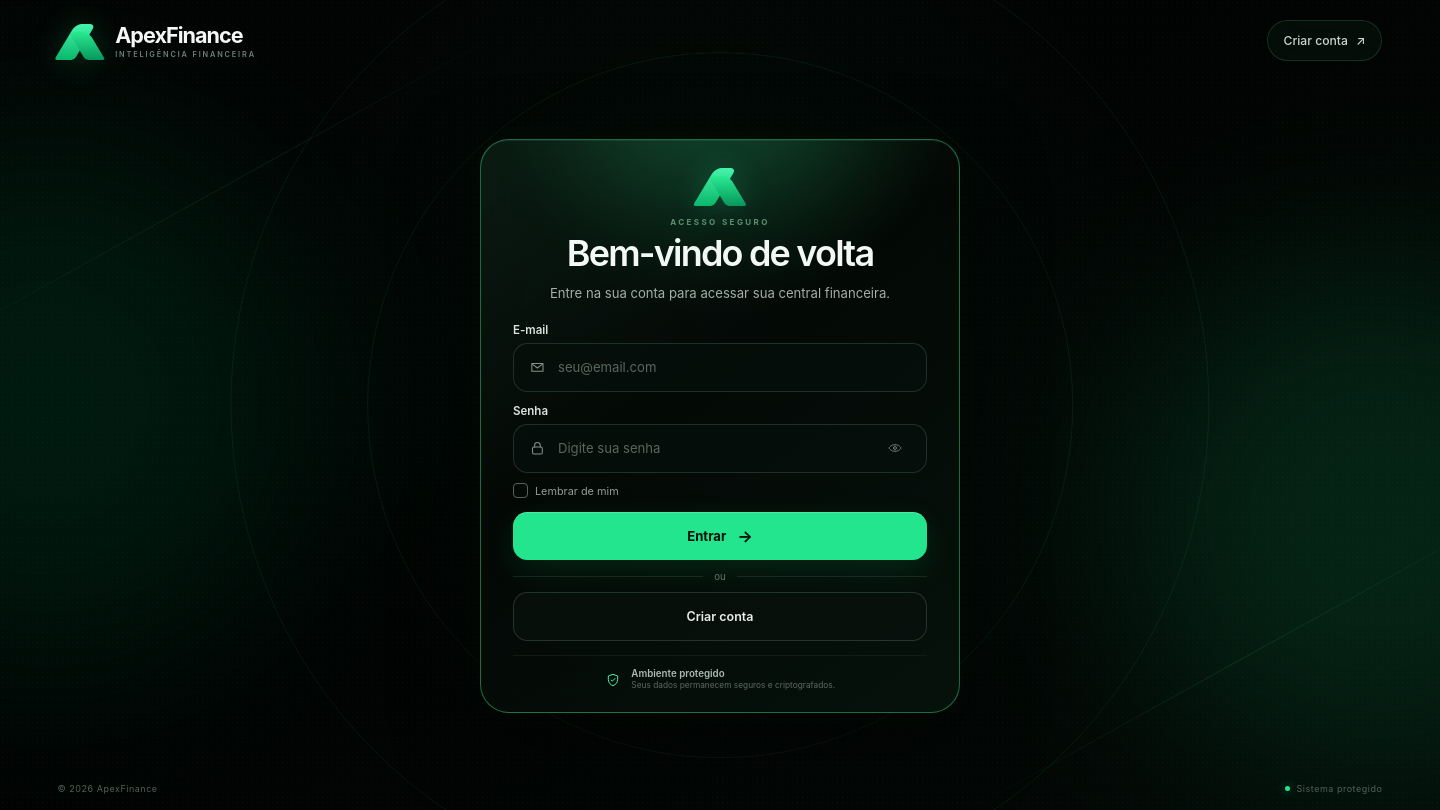
Test case: Autenticação do ApexFinance › navega para o cadastro sem recarregar a aplicação
This screenshot has width=1440, height=810.
Step 1. Click the link "Criar conta ↗" → coordinates (1324, 41), box [1266, 20, 1382, 61]
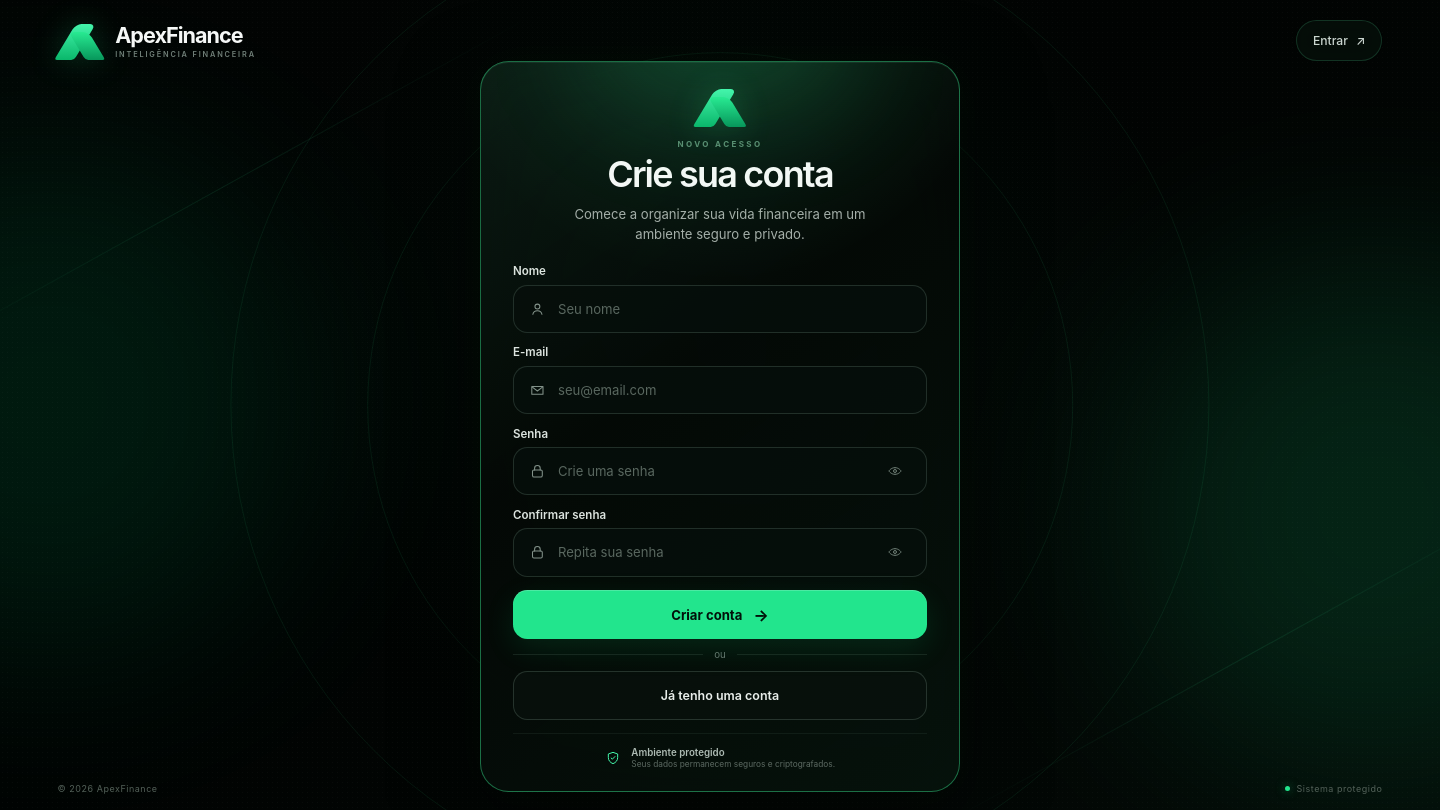
Expected: the heading "Crie sua conta" is shown, [607, 152, 833, 196]
